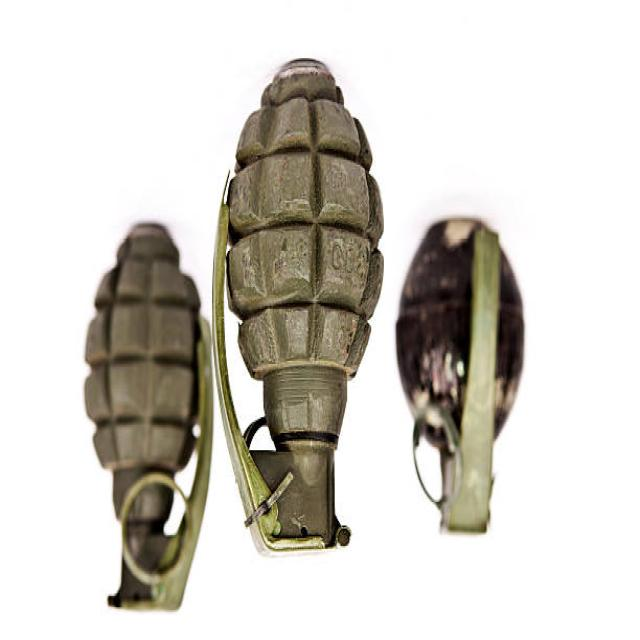grenade: (213, 53, 389, 564), (81, 221, 220, 621), (395, 214, 527, 550)
